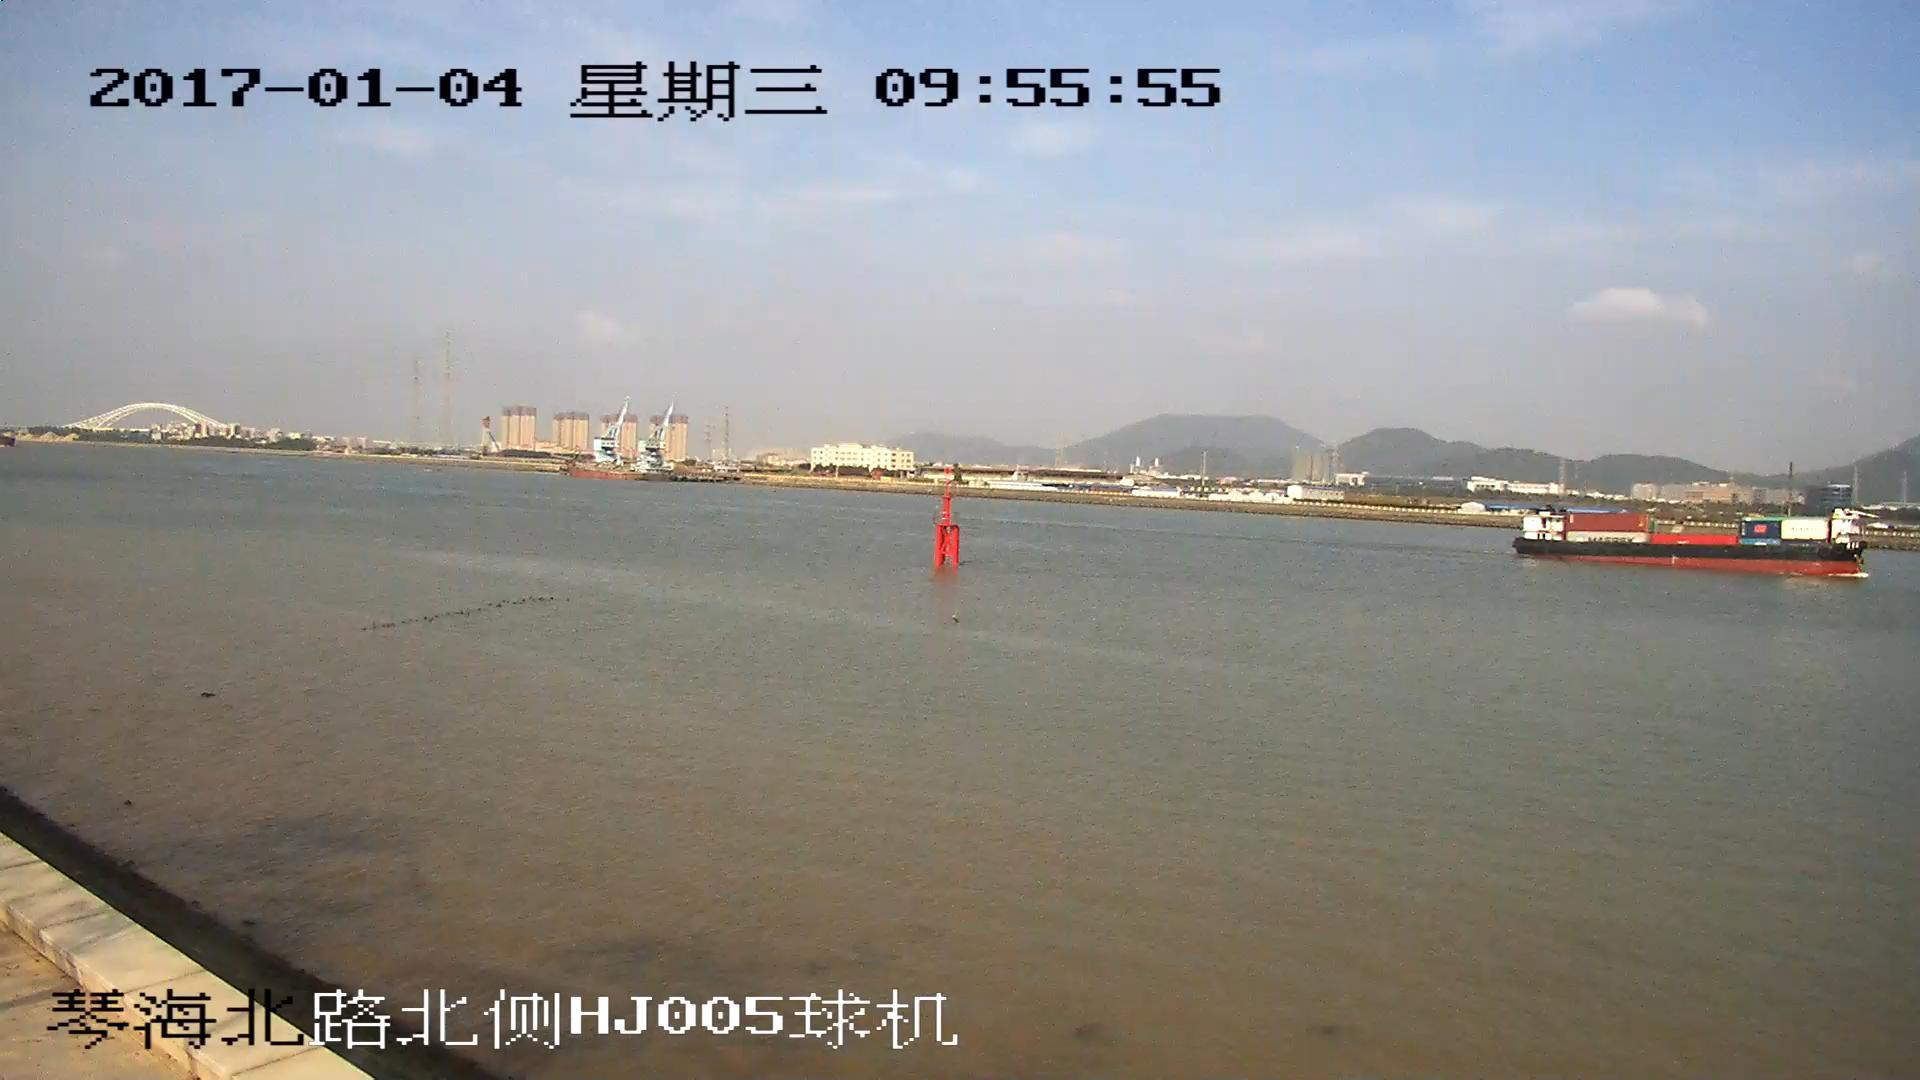Ship: (1516, 504, 1865, 574)
